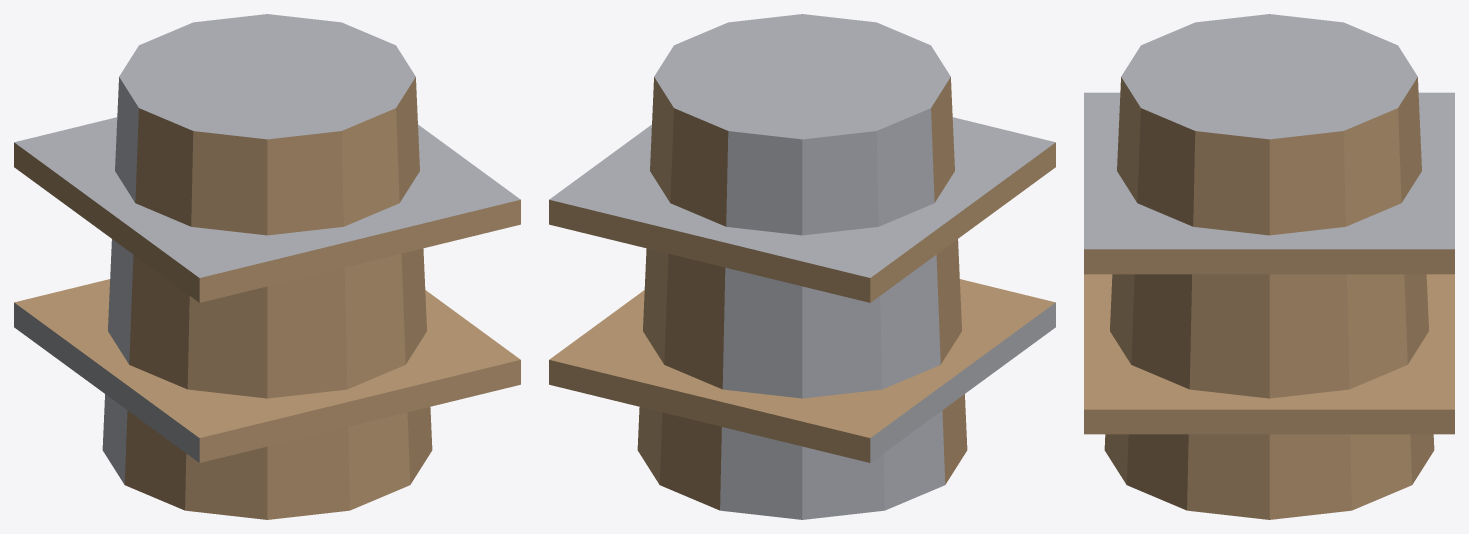
The model's file is PROP-barrel-00.glb.
The picture shows the model from 3 angles, left to right: view 1: azimuth 30°, elevation 25°; view 2: azimuth 150°, elevation 25°; view 3: azimuth 270°, elevation 25°; orthographic projection.
Parts seen in each view (by area): view 1: PROP-barrel-00; view 2: PROP-barrel-00; view 3: PROP-barrel-00.
Boxes of the visible parts, bbox=[...] form: PROP-barrel-00: bbox=[14, 14, 520, 519]; PROP-barrel-00: bbox=[549, 14, 1055, 519]; PROP-barrel-00: bbox=[1084, 14, 1454, 519].
Bounding box in the file's own units: 0.945 × 1.05 × 0.945.
